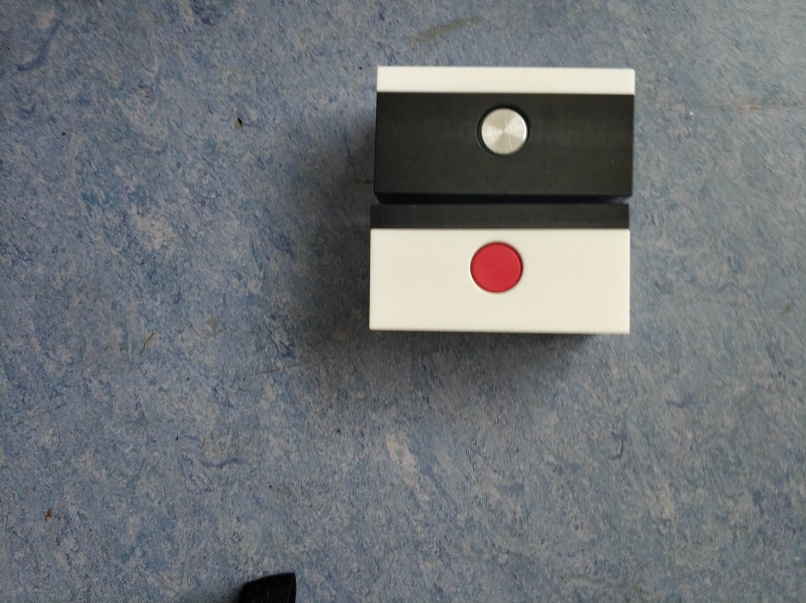black+white+red: (364, 200, 634, 341)
white+black+silver: (372, 63, 639, 199)
